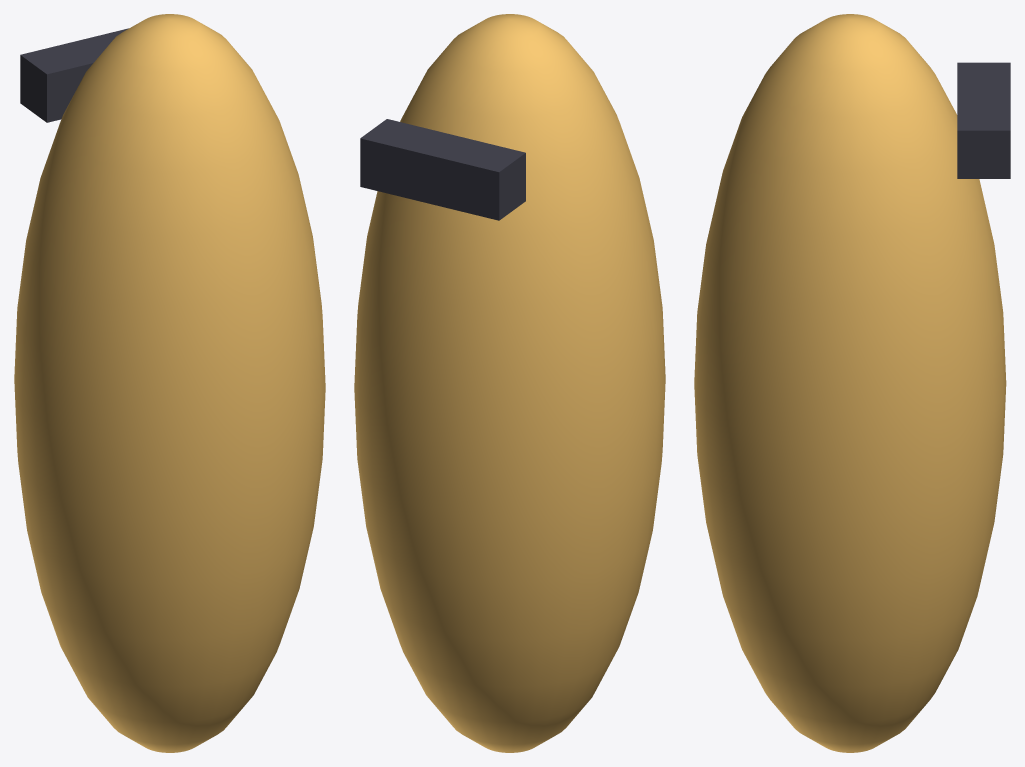
File: character.glb
The picture shows the model from 3 angles, left to right: view 1: azimuth 30°, elevation 25°; view 2: azimuth 150°, elevation 25°; view 3: azimuth 270°, elevation 25°; orthographic projection.
Visible parts, largest first — view 1: Body, Visor; view 2: Body, Visor; view 3: Body, Visor.
Boxes of the visible parts, bbox=[...] form: Body: bbox=[14, 14, 325, 752]; Visor: bbox=[20, 28, 128, 122]; Body: bbox=[354, 14, 665, 752]; Visor: bbox=[360, 119, 525, 220]; Body: bbox=[694, 14, 1006, 752]; Visor: bbox=[957, 62, 1010, 178].
Bounding box in the file's own units: 0.7 × 1.8 × 0.71.
